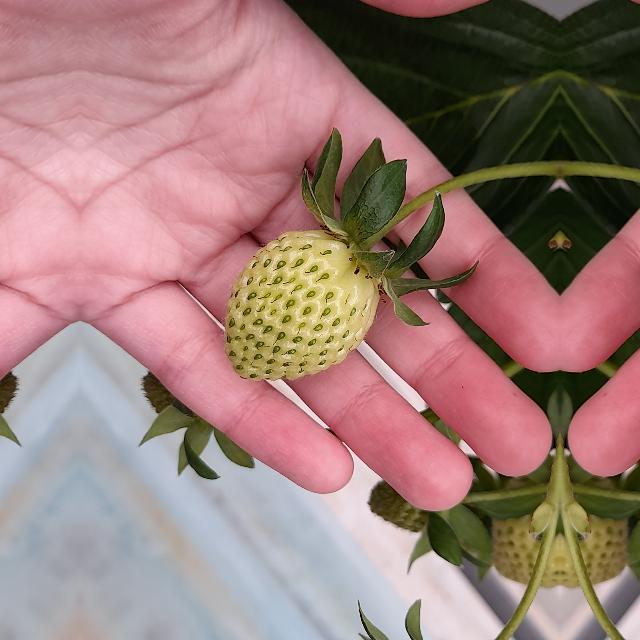Health_25: (224, 230, 380, 380), (487, 468, 559, 586), (561, 468, 633, 586)
